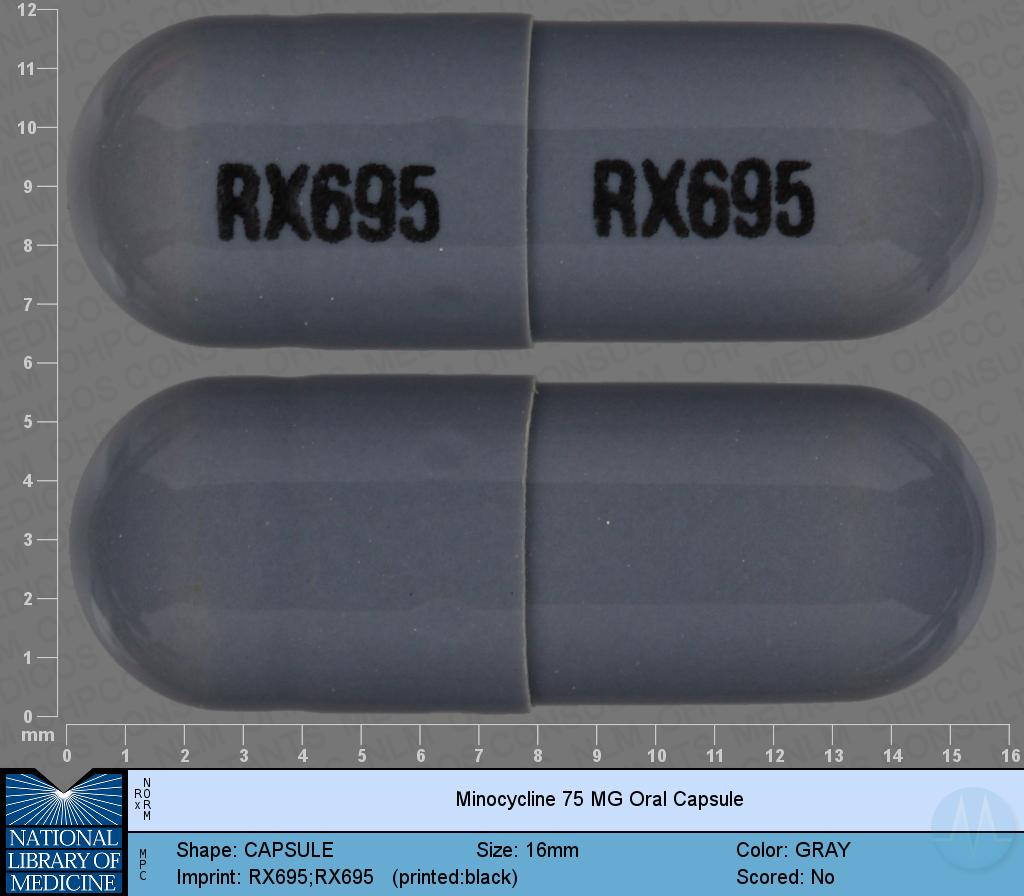Pill: (60, 3, 1010, 360), (62, 368, 1010, 725)
